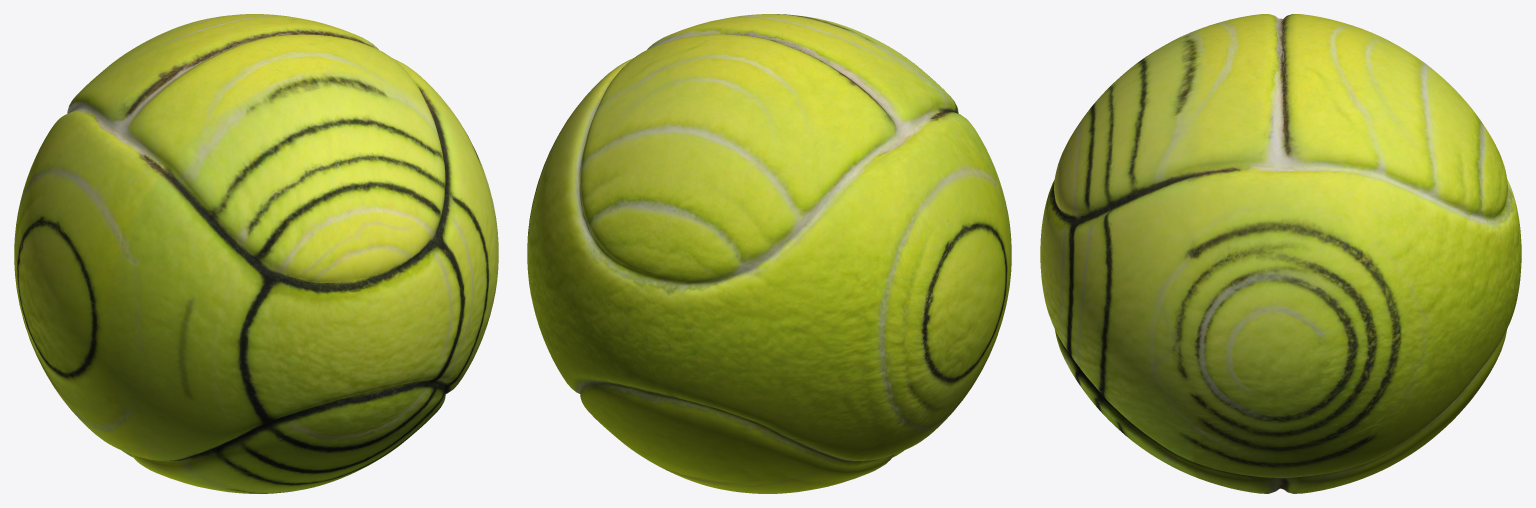
Rendered from теннисный_м_0204213058_texture.fbx.
The picture shows the model from 3 angles, left to right: view 1: azimuth 30°, elevation 25°; view 2: azimuth 150°, elevation 25°; view 3: azimuth 270°, elevation 25°; orthographic projection.
Parts seen in each view (by area): view 1: Mesh1_Mesh1.087; view 2: Mesh1_Mesh1.087; view 3: Mesh1_Mesh1.087.
Boxes of the visible parts, <box> form: Mesh1_Mesh1.087: <box>14,14,498,493</box>; Mesh1_Mesh1.087: <box>527,14,1011,493</box>; Mesh1_Mesh1.087: <box>1040,14,1521,493</box>.
Bounding box in the file's own units: 200 × 199 × 200.
1 material, 1 textured.
